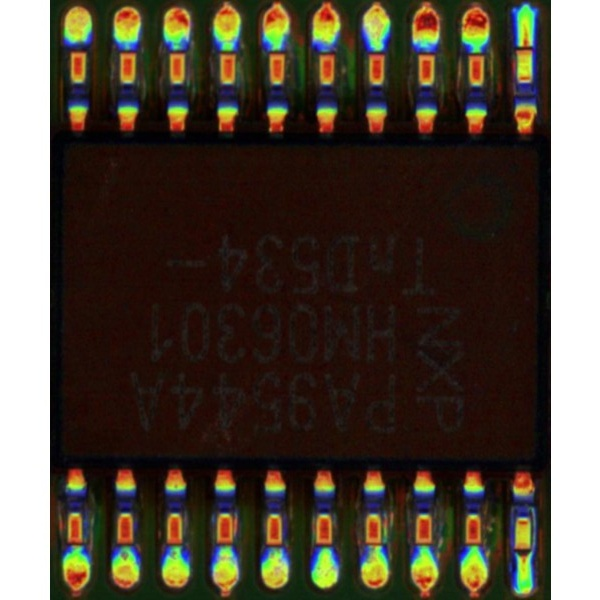Bad_podu: (515, 544, 530, 569), (518, 31, 529, 59)
Bad_qiaojiao: (530, 508, 536, 551)
